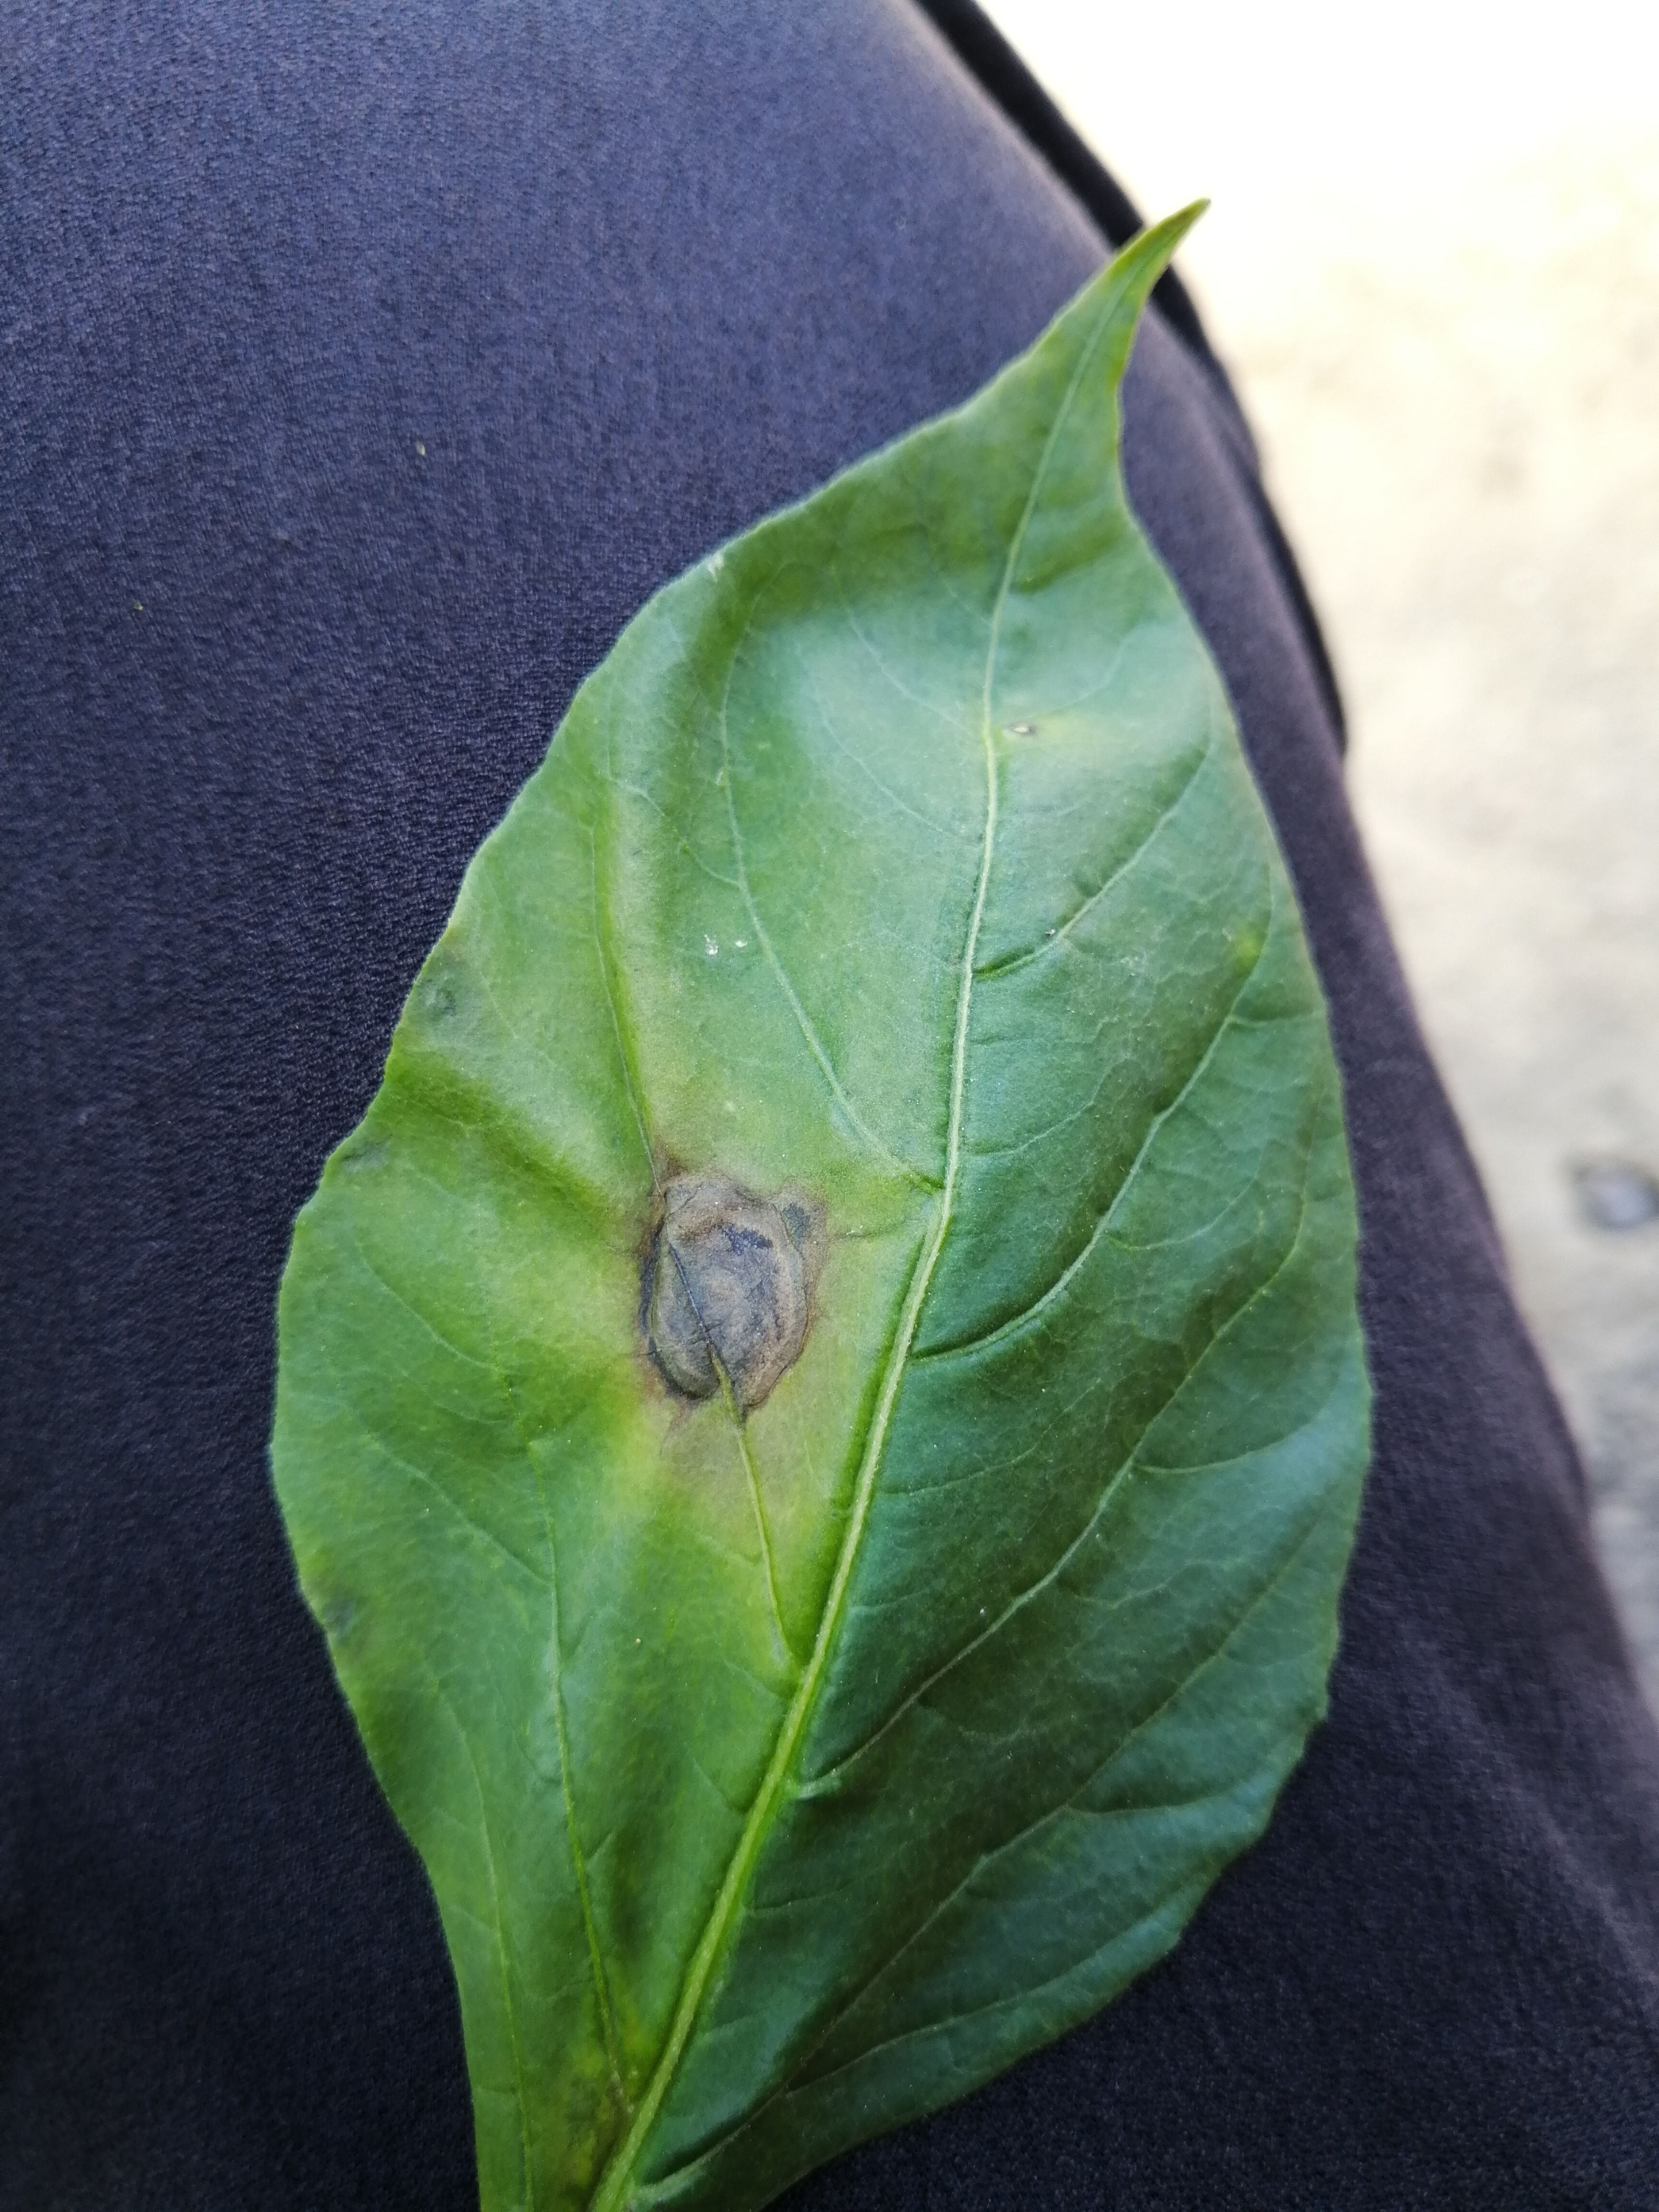Anthrax: (533, 1022, 950, 1548)
